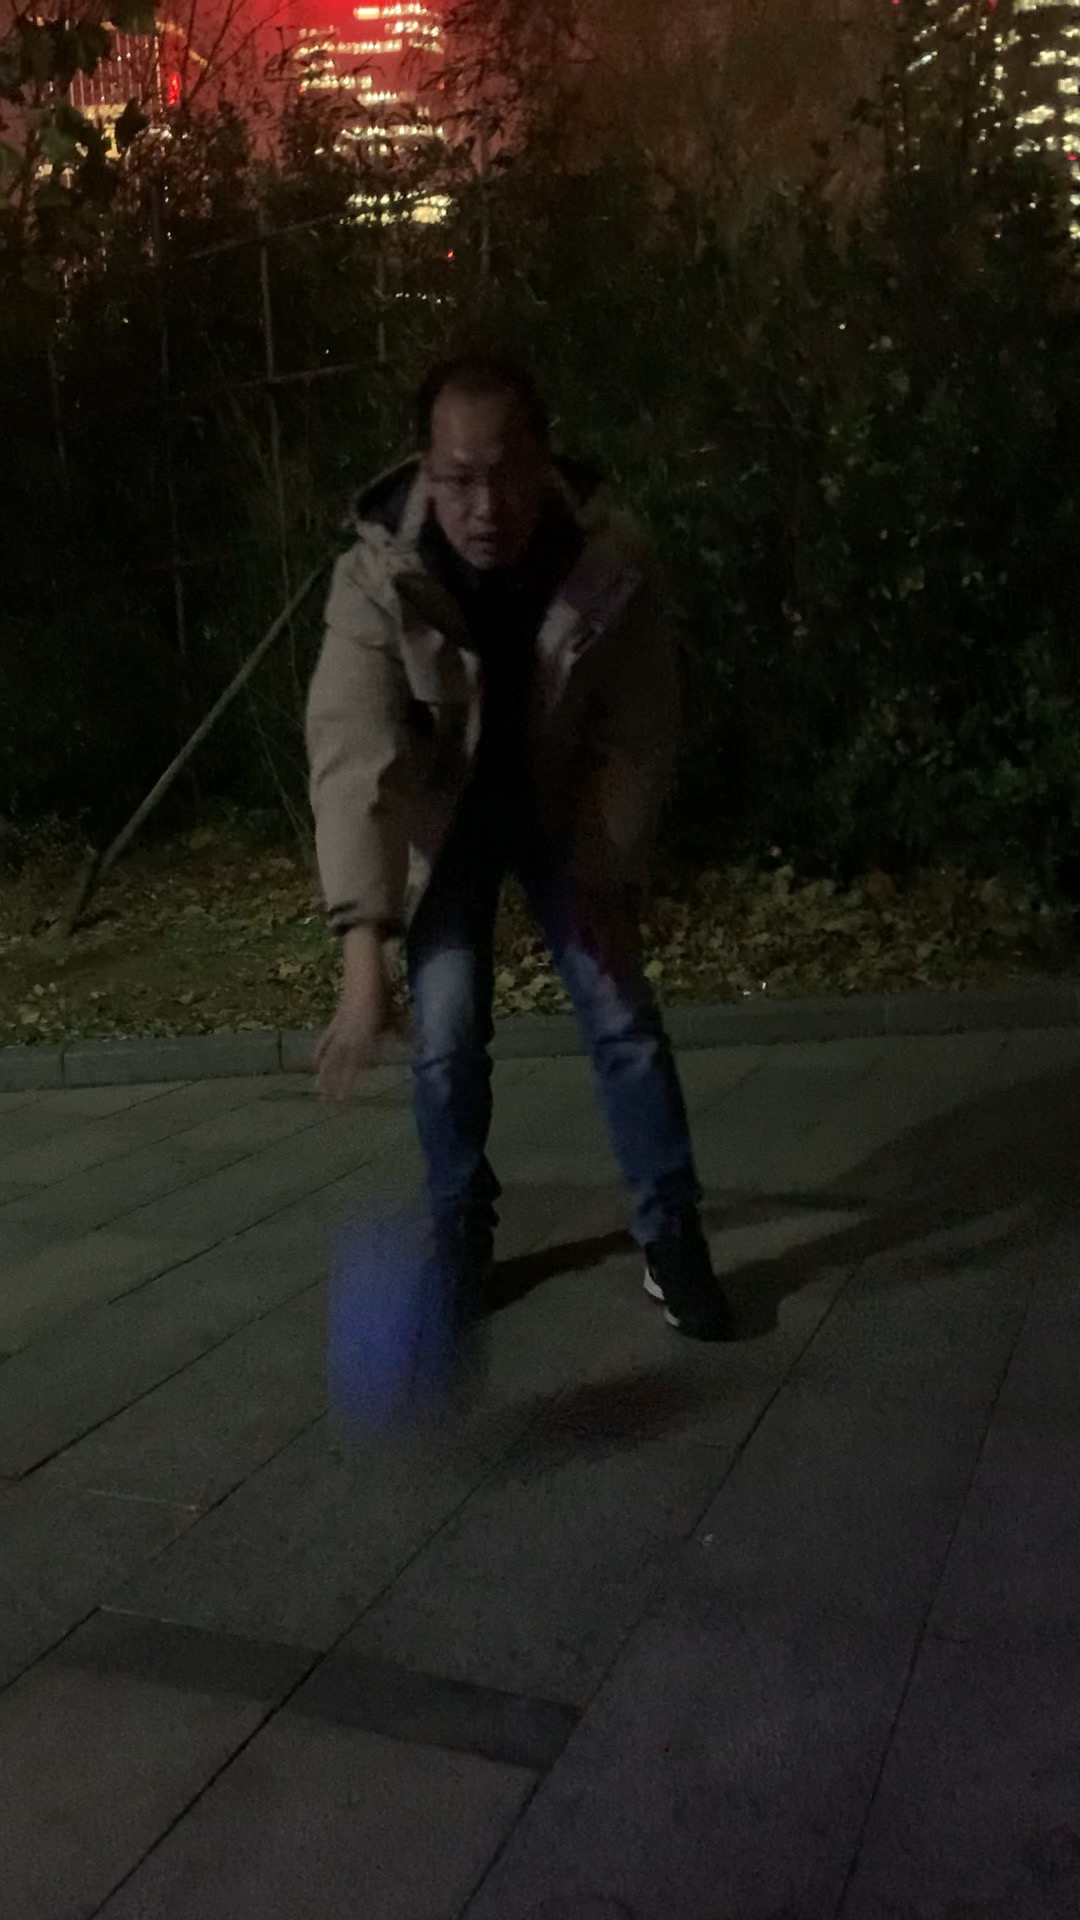ball: (332, 1270, 501, 1433)
